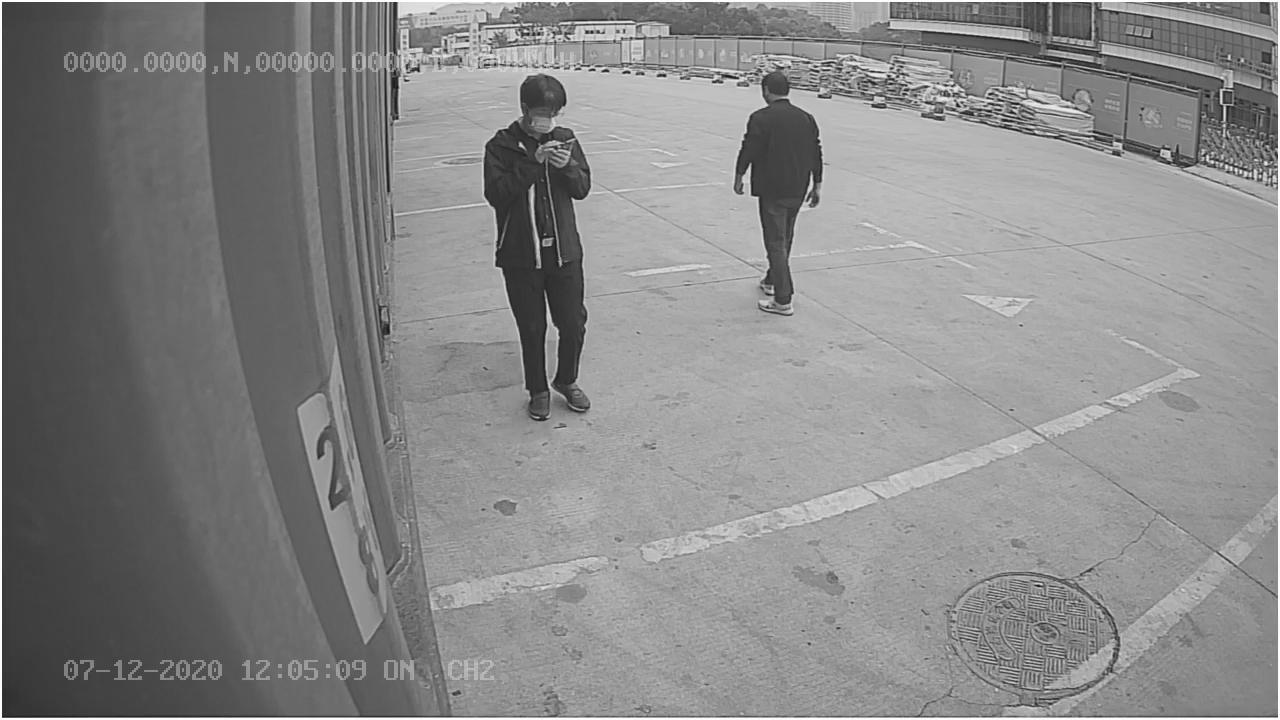person: (481, 75, 599, 423), (731, 71, 824, 318)
